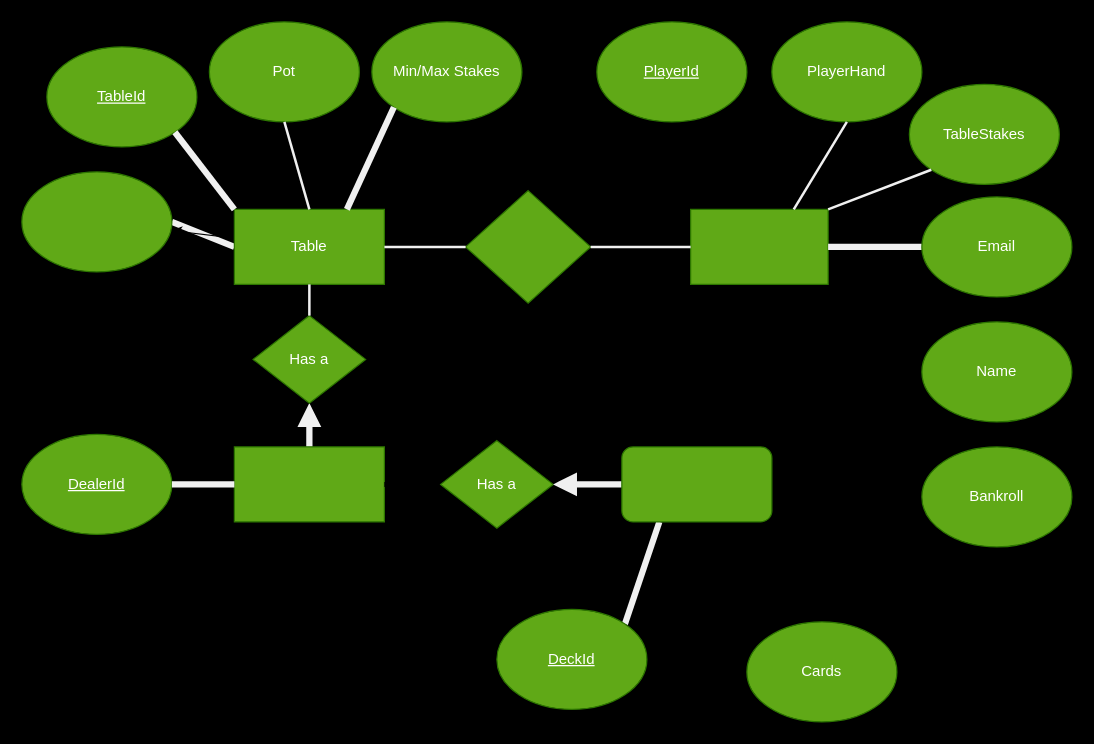
This 1094x744 diagram has some shape labels left out. Here are the shapes that lost their labels. From the top down, the centre of each, then its label:
At (x=96, y=221): "GameType".
At (x=527, y=246): "has Players".
At (x=758, y=246): "Player".
At (x=308, y=484): "Dealer".
At (x=696, y=484): "Deck".
